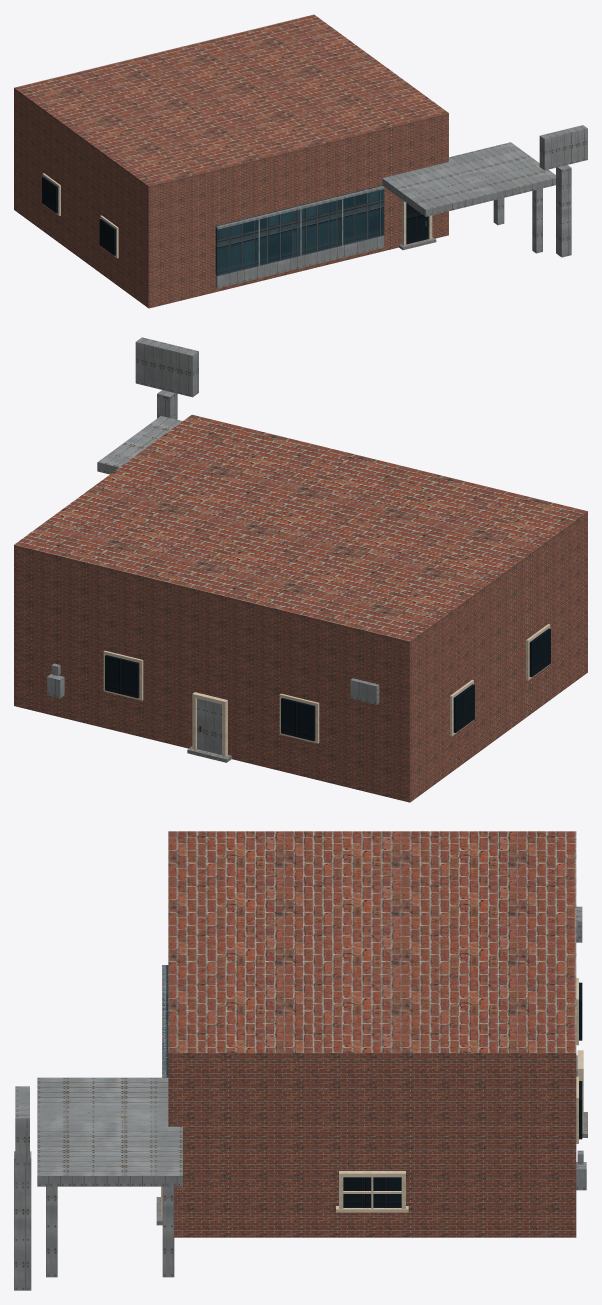
Rendered from neighborhood-pharmacy_lod0.gltf.
The picture shows the model from 3 angles, top to bottom: view 1: azimuth 30°, elevation 25°; view 2: azimuth 150°, elevation 25°; view 3: azimuth 270°, elevation 25°; orthographic projection. The views are drawn at different scales.
Parts seen in each view (by area): view 1: neighborhood-pharmacy_main, neighborhood-pharmacy_fen_07-glass-curtain-blue_1, neighborhood-pharmacy__drive_canopy, neighborhood-pharmacy_fen_14-steel-panel_0, neighborhood-pharmacy__pylon_cabinet, neighborhood-pharmacy_fen_07-glass-curtain-blue_3_t, neighborhood-pharmacy__pylon_post, neighborhood-pharmacy_fen_04-limestone_2, neighborhood-pharmacy__drive_post_a; view 2: neighborhood-pharmacy_main, neighborhood-pharmacy_fen_07-glass-curtain-blue_3_t, neighborhood-pharmacy__pylon_cabinet, neighborhood-pharmacy_fen_04-limestone_2, neighborhood-pharmacy_fen_14-steel-panel_0, neighborhood-pharmacy__drive_canopy; view 3: neighborhood-pharmacy_main, neighborhood-pharmacy__drive_canopy, neighborhood-pharmacy__pylon_post, neighborhood-pharmacy_fen_04-limestone_2, neighborhood-pharmacy_fen_07-glass-curtain-blue_3_t, neighborhood-pharmacy_fen_14-steel-panel_0, neighborhood-pharmacy__pylon_cabinet, neighborhood-pharmacy__drive_post_b, neighborhood-pharmacy__drive_post_a, neighborhood-pharmacy_fen_07-glass-curtain-blue_1.
Part boxes in pixels (x1=…): neighborhood-pharmacy_main: x1=14, y1=14, x2=448, y2=308; neighborhood-pharmacy_fen_07-glass-curtain-blue_1: x1=215, y1=185, x2=384, y2=275; neighborhood-pharmacy__drive_canopy: x1=382, y1=142, x2=555, y2=216; neighborhood-pharmacy_fen_14-steel-panel_0: x1=215, y1=186, x2=384, y2=288; neighborhood-pharmacy__pylon_cabinet: x1=539, y1=125, x2=587, y2=170; neighborhood-pharmacy_fen_07-glass-curtain-blue_3_t: x1=42, y1=176, x2=428, y2=255; neighborhood-pharmacy__pylon_post: x1=556, y1=165, x2=571, y2=257; neighborhood-pharmacy_fen_04-limestone_2: x1=42, y1=173, x2=432, y2=258; neighborhood-pharmacy__drive_post_a: x1=532, y1=188, x2=542, y2=253; neighborhood-pharmacy_main: x1=14, y1=414, x2=587, y2=802; neighborhood-pharmacy_fen_07-glass-curtain-blue_3_t: x1=105, y1=628, x2=550, y2=741; neighborhood-pharmacy__pylon_cabinet: x1=135, y1=337, x2=198, y2=397; neighborhood-pharmacy_fen_04-limestone_2: x1=103, y1=624, x2=550, y2=757; neighborhood-pharmacy_fen_14-steel-panel_0: x1=47, y1=663, x2=379, y2=754; neighborhood-pharmacy__drive_canopy: x1=97, y1=416, x2=182, y2=474; neighborhood-pharmacy_main: x1=168, y1=831, x2=576, y2=1237; neighborhood-pharmacy__drive_canopy: x1=37, y1=1077, x2=182, y2=1186; neighborhood-pharmacy__pylon_post: x1=14, y1=1151, x2=31, y2=1290; neighborhood-pharmacy_fen_04-limestone_2: x1=161, y1=978, x2=583, y2=1219; neighborhood-pharmacy_fen_07-glass-curtain-blue_3_t: x1=343, y1=982, x2=582, y2=1207; neighborhood-pharmacy_fen_14-steel-panel_0: x1=162, y1=906, x2=586, y2=1190; neighborhood-pharmacy__pylon_cabinet: x1=15, y1=1086, x2=29, y2=1165; neighborhood-pharmacy__drive_post_b: x1=162, y1=1186, x2=174, y2=1277; neighborhood-pharmacy__drive_post_a: x1=46, y1=1186, x2=57, y2=1277; neighborhood-pharmacy_fen_07-glass-curtain-blue_1: x1=162, y1=965, x2=168, y2=1077.
Bounding box in the file's own units: 23.5 × 7.02 × 19.7.
